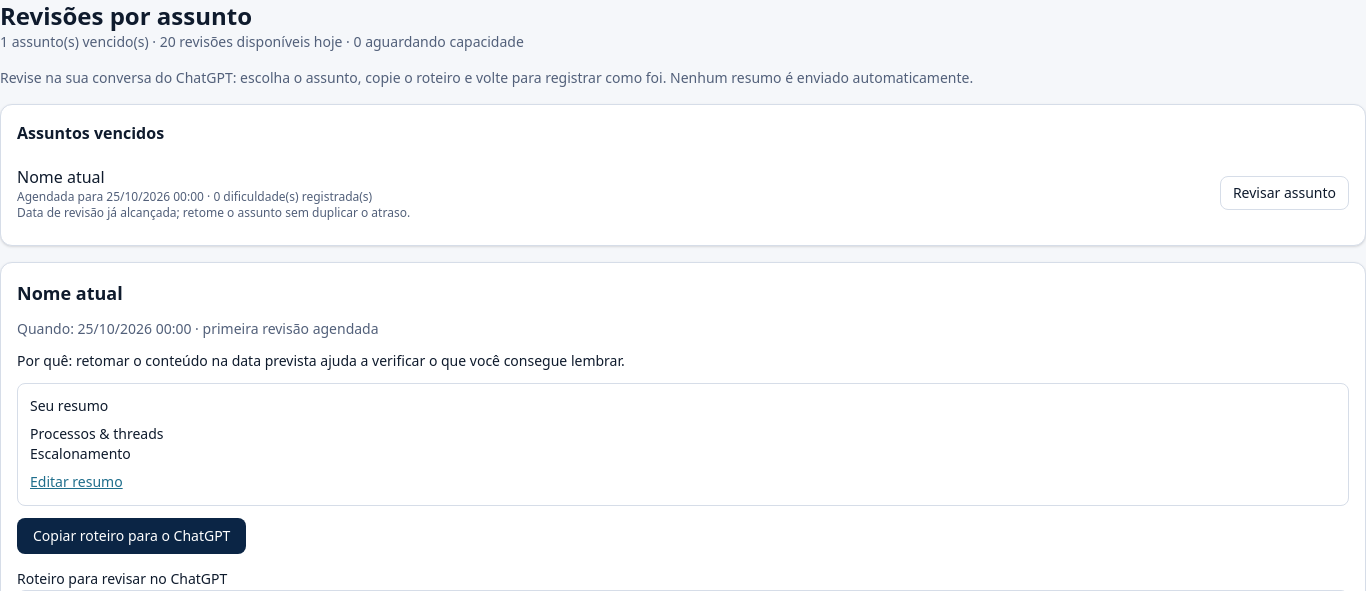
Test case: Revisões: aulas › copia roteiro em texto seguro com recuperação ativa e sem inventar gabaritos
Click the button "Copiar roteiro para o ChatGPT" at (132, 536), box [17,518,246,554]
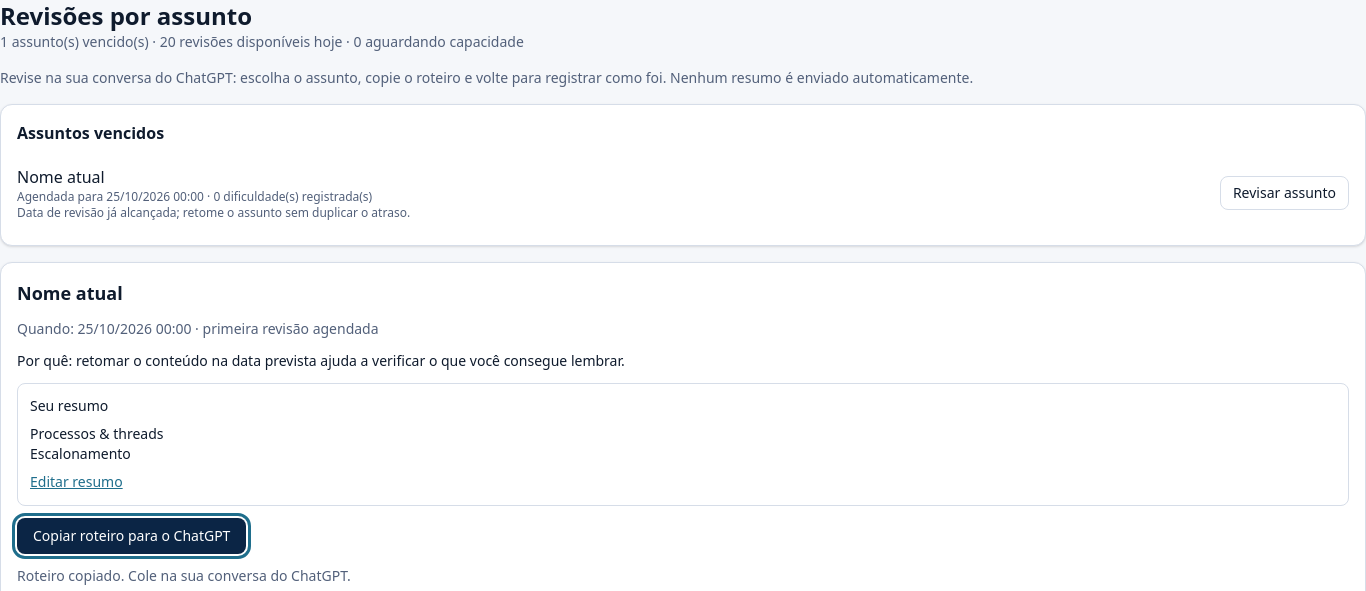
Result: the text "Roteiro copiado. Cole na sua conversa do ChatGPT." is shown at [17,566,351,585]
